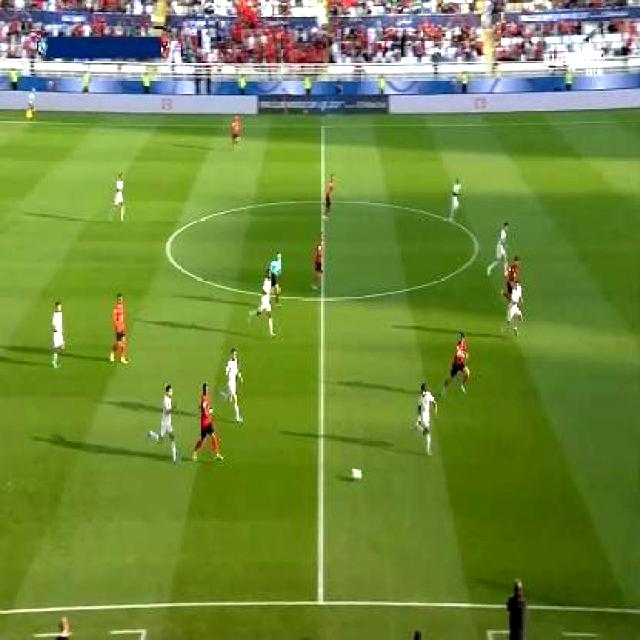halfcircle_bottom: (311, 281, 334, 314)
halfcircle_top: (311, 190, 331, 212)
midline_bottom_intersection: (308, 583, 334, 612)
midline_top_intersection: (316, 116, 330, 136)
